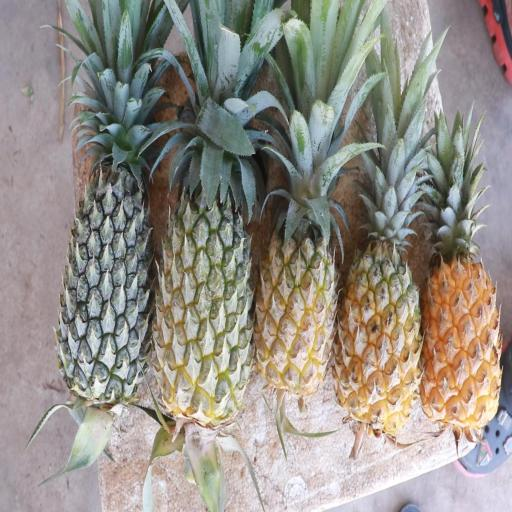------------------------------: (158, 153, 252, 416)
Pineapple - v8 v1: (340, 198, 422, 418), (257, 170, 337, 391), (423, 221, 501, 424)
